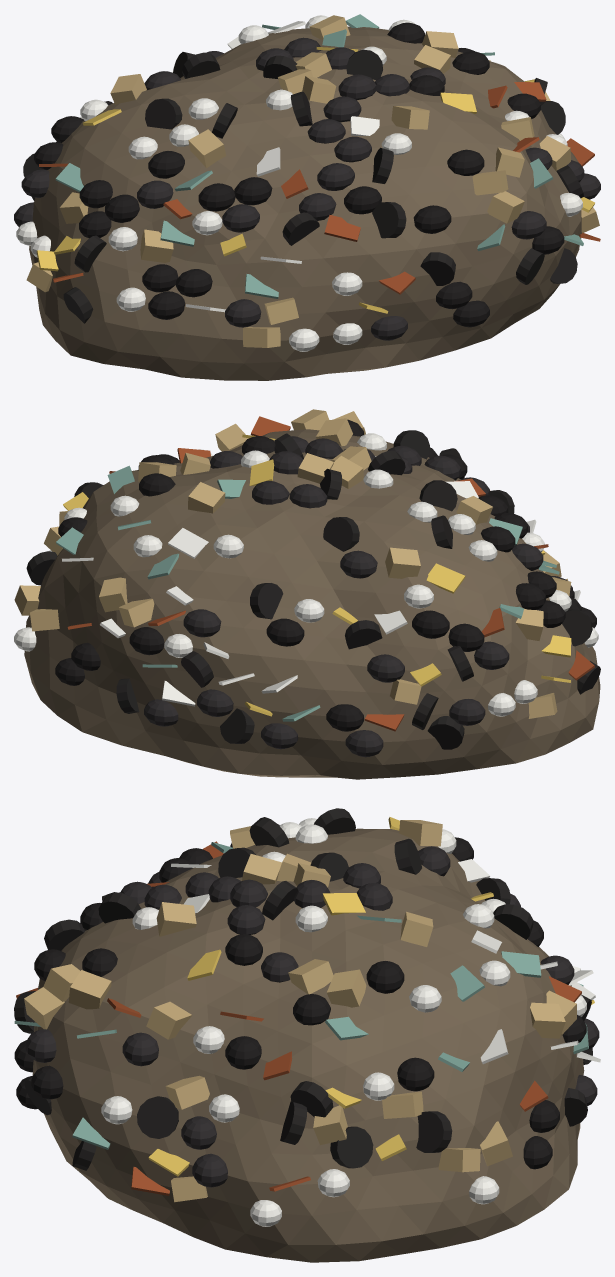
The model's file is landfill_mound.glb.
3 renders of one model, top to bottom at view 1: azimuth 30°, elevation 25°; view 2: azimuth 150°, elevation 25°; view 3: azimuth 270°, elevation 25°, orthographic. The views are drawn at different scales.
Visible parts, largest first — view 1: landfill_mound; view 2: landfill_mound; view 3: landfill_mound.
Boxes of the visible parts, x1,y1,x2,y2 form: landfill_mound: [14, 14, 600, 380]; landfill_mound: [14, 409, 600, 779]; landfill_mound: [14, 808, 600, 1262].
Bounding box in the file's own units: 12.84 × 5.2 × 10.61.
